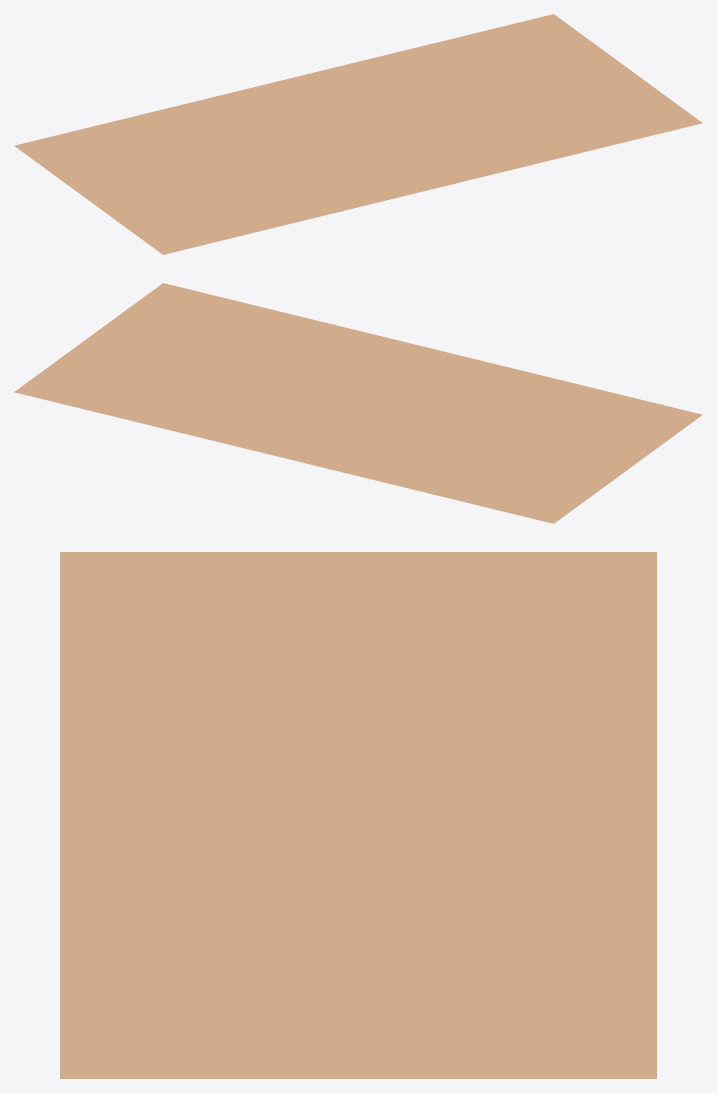
Rendered from bpw lantern - paper empty.fbx.
3 renders of one model, top to bottom at view 1: azimuth 30°, elevation 25°; view 2: azimuth 150°, elevation 25°; view 3: azimuth 270°, elevation 25°, orthographic. The views are drawn at different scales.
Parts seen in each view (by area): view 1: Plane.001; view 2: Plane.001; view 3: Plane.001.
Part boxes in pixels (x1,y1,x2,y2): Plane.001: (14,14,702,254); Plane.001: (14,283,702,523); Plane.001: (60,552,656,1078).
Size of the model in its own units: 300 by 0 by 143.
